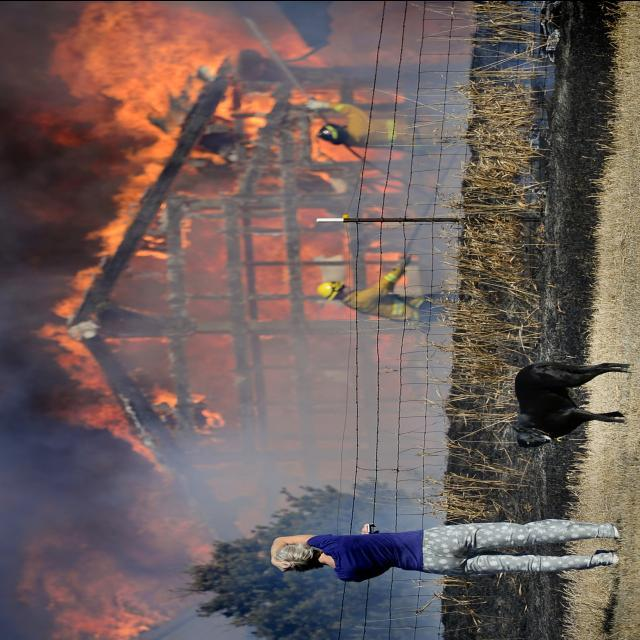Fire: (14, 39, 322, 442), (45, 568, 157, 640)
